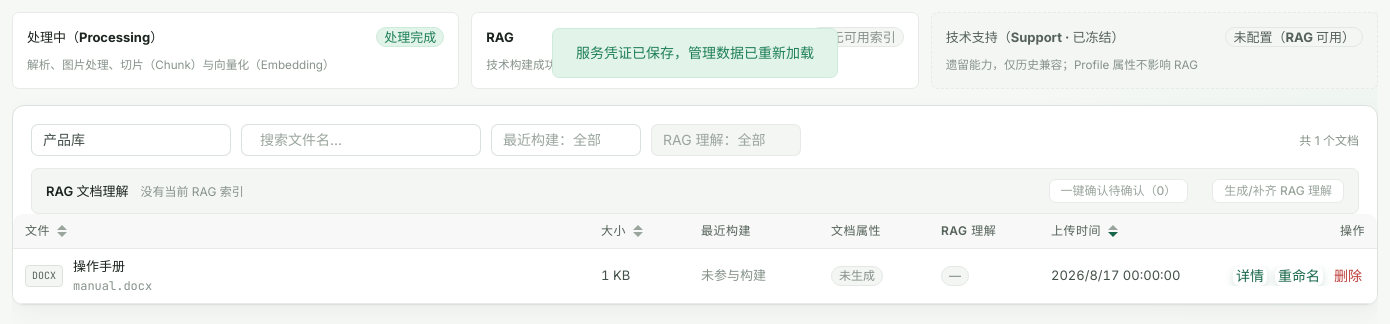
Test case: AdminStudio settings › confirms and deletes a parsed document
Click the button "删除": x=1348, y=276 top-left (1331, 266), bottom-right (1365, 286)
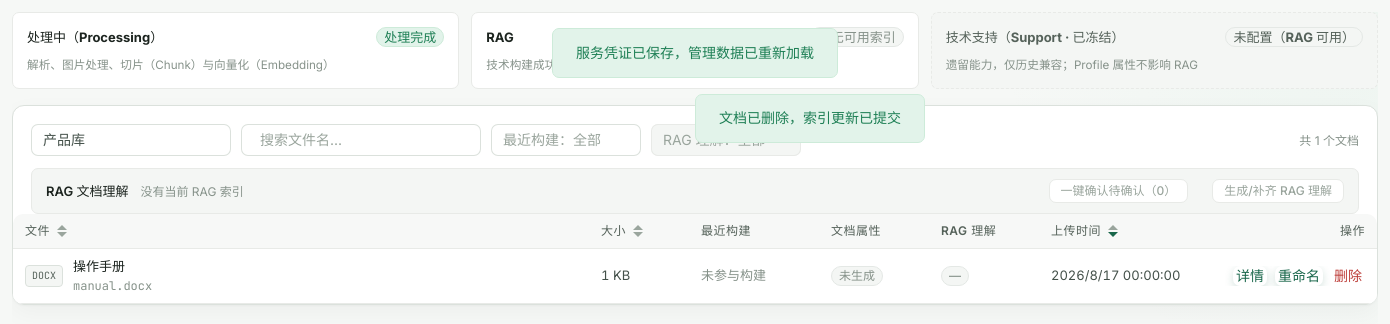
Result: the text "文档已删除，索引更新已提交" is shown at top-left (719, 111), bottom-right (901, 125)
